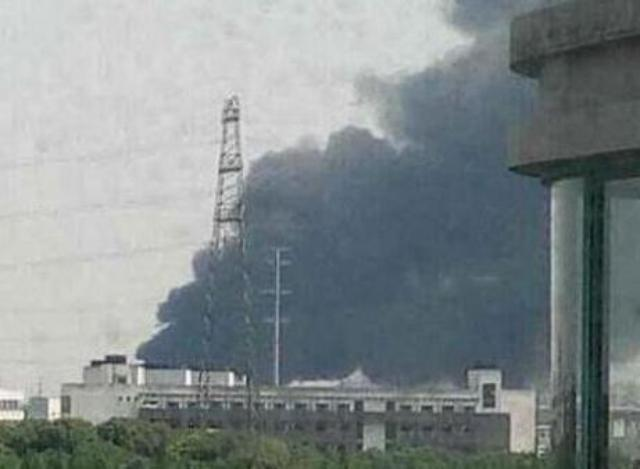smoke: (255, 177, 539, 356), (351, 69, 499, 170), (608, 187, 634, 350), (147, 285, 195, 351), (455, 8, 499, 63)
